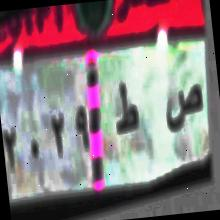0: (28, 134, 42, 166)
2: (1, 120, 22, 178), (47, 110, 68, 167)
9: (72, 100, 92, 157)
Taa: (110, 78, 141, 151)
saad: (160, 78, 206, 140)
